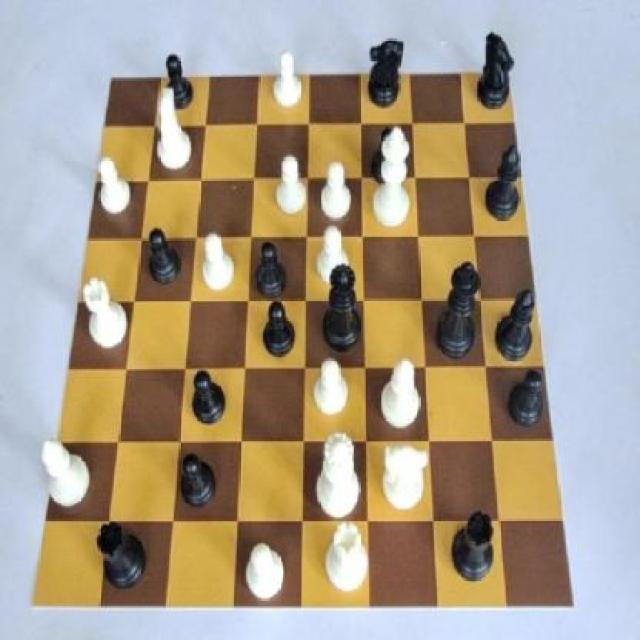bishop: (477, 132, 527, 222), (489, 281, 543, 364)
black-bishop: (432, 262, 482, 362)
black-king: (472, 28, 518, 114), (363, 22, 405, 113)
black-knight: (503, 366, 550, 442), (140, 220, 186, 294), (174, 445, 223, 512), (243, 238, 291, 304), (364, 118, 408, 188), (192, 368, 237, 432), (260, 296, 301, 362), (163, 51, 201, 120)
black-pawn: (317, 256, 368, 362)
black-queen: (442, 504, 499, 598), (96, 516, 156, 596)
black-rook: (38, 428, 98, 515), (376, 346, 430, 432)
white-bishop: (369, 123, 417, 237)
white-king: (142, 88, 198, 179), (375, 432, 427, 517)
white-knight: (237, 532, 293, 606), (311, 218, 359, 287), (94, 148, 138, 222), (314, 152, 354, 228), (265, 41, 306, 114), (310, 355, 354, 421), (268, 151, 308, 223), (200, 230, 243, 292)
white-pawn: (309, 420, 365, 524)
white-queen: (78, 271, 132, 363), (320, 512, 372, 598)
